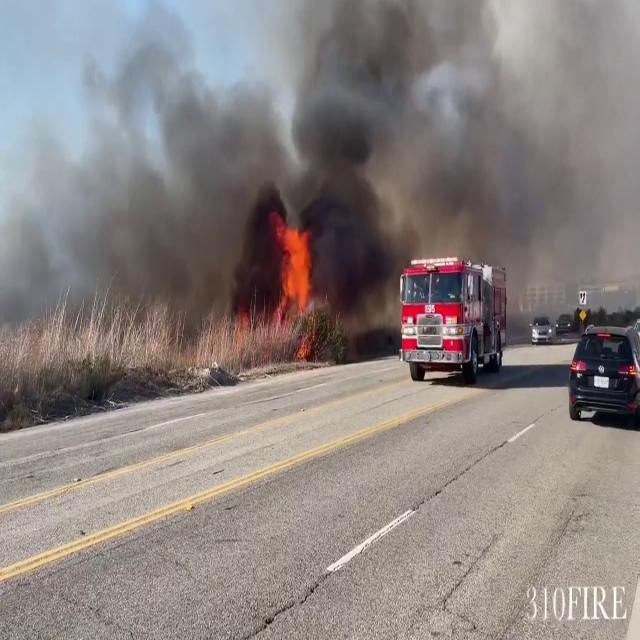Fire: (270, 214, 318, 328)
Smoke: (288, 0, 640, 308), (0, 5, 274, 357)
